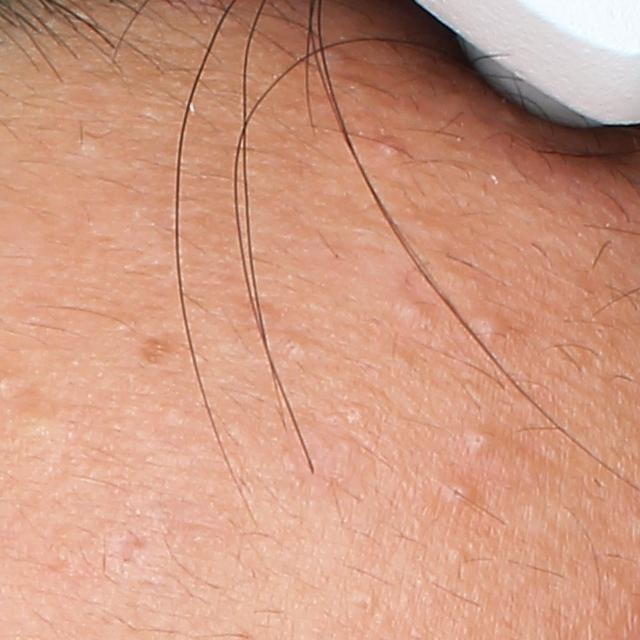comedo: (468, 304, 511, 340), (395, 297, 438, 330), (444, 483, 468, 503), (353, 596, 372, 615)
